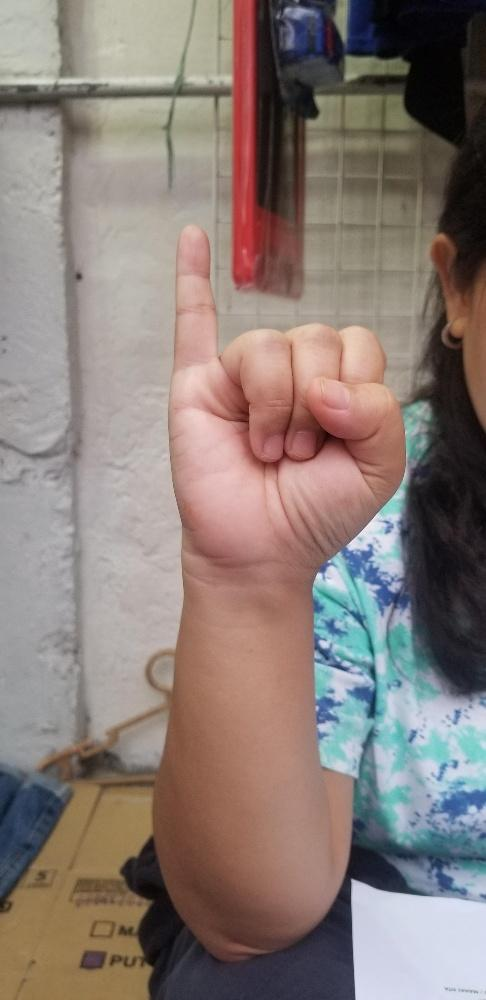i: (166, 223, 405, 561)
